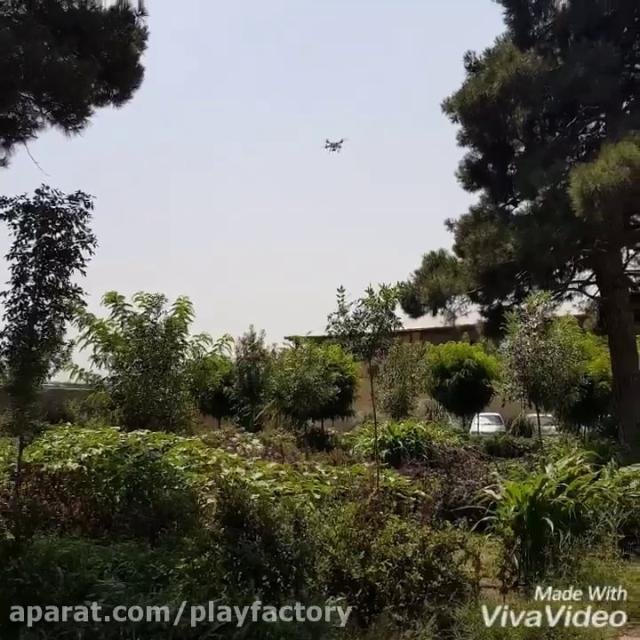drone: (317, 132, 351, 156)
